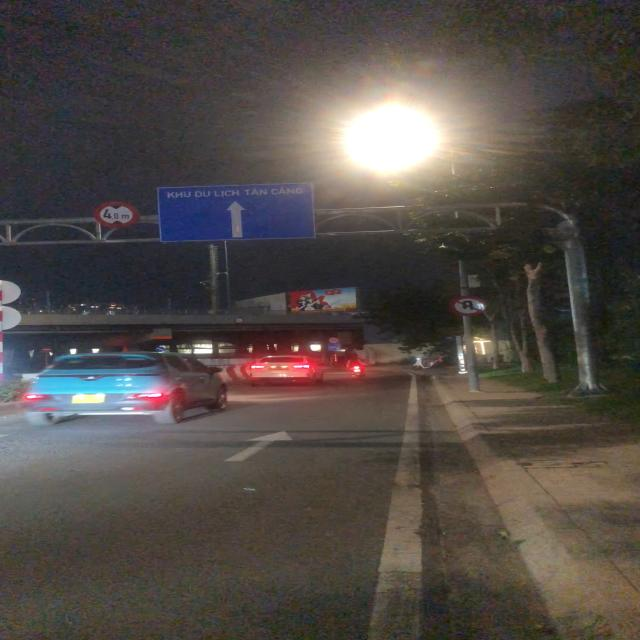Bien bao cam quay dau xe: (447, 294, 489, 318)
Bien bao han che chieu cao: (93, 200, 142, 229)
